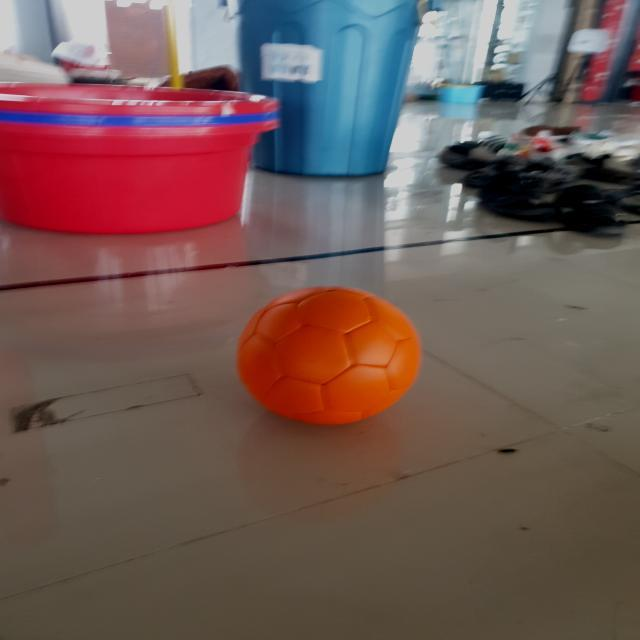bola: (212, 280, 445, 434)
